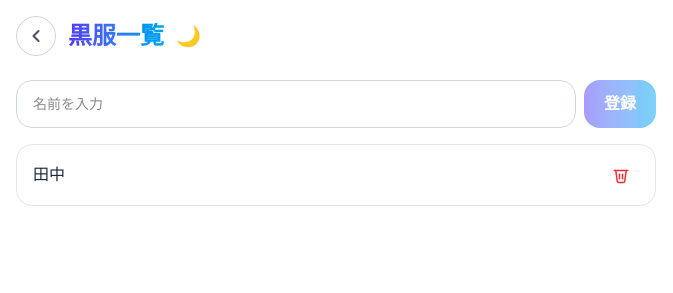
Test case: 黒服一覧ページ › 名前を入力して登録ボタンを押すと登録される
The image size is (673, 293).
Expected: the text "田中" is shown, [33, 163, 65, 187]
In the field with placeholder "名前を入力": (296, 104) [16, 80, 576, 128], type "山田"
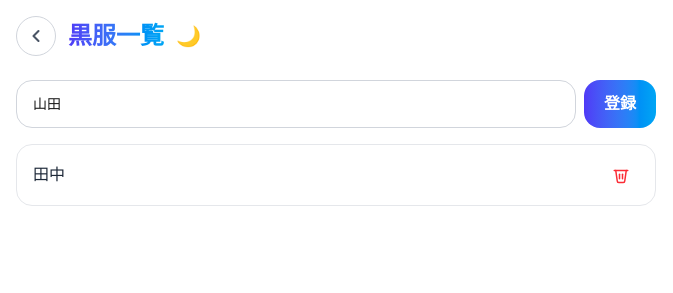
Click the button "登録": (620, 104) [584, 80, 656, 128]
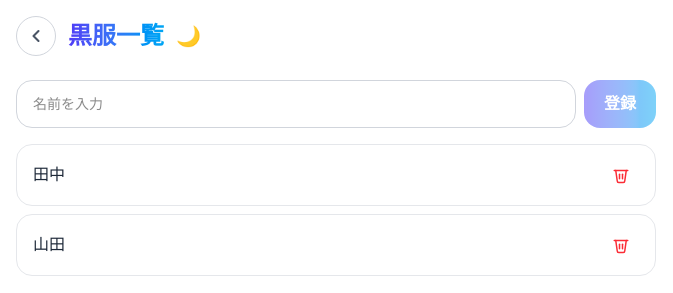
Result: the text "山田" is shown at [33, 233, 65, 257]
